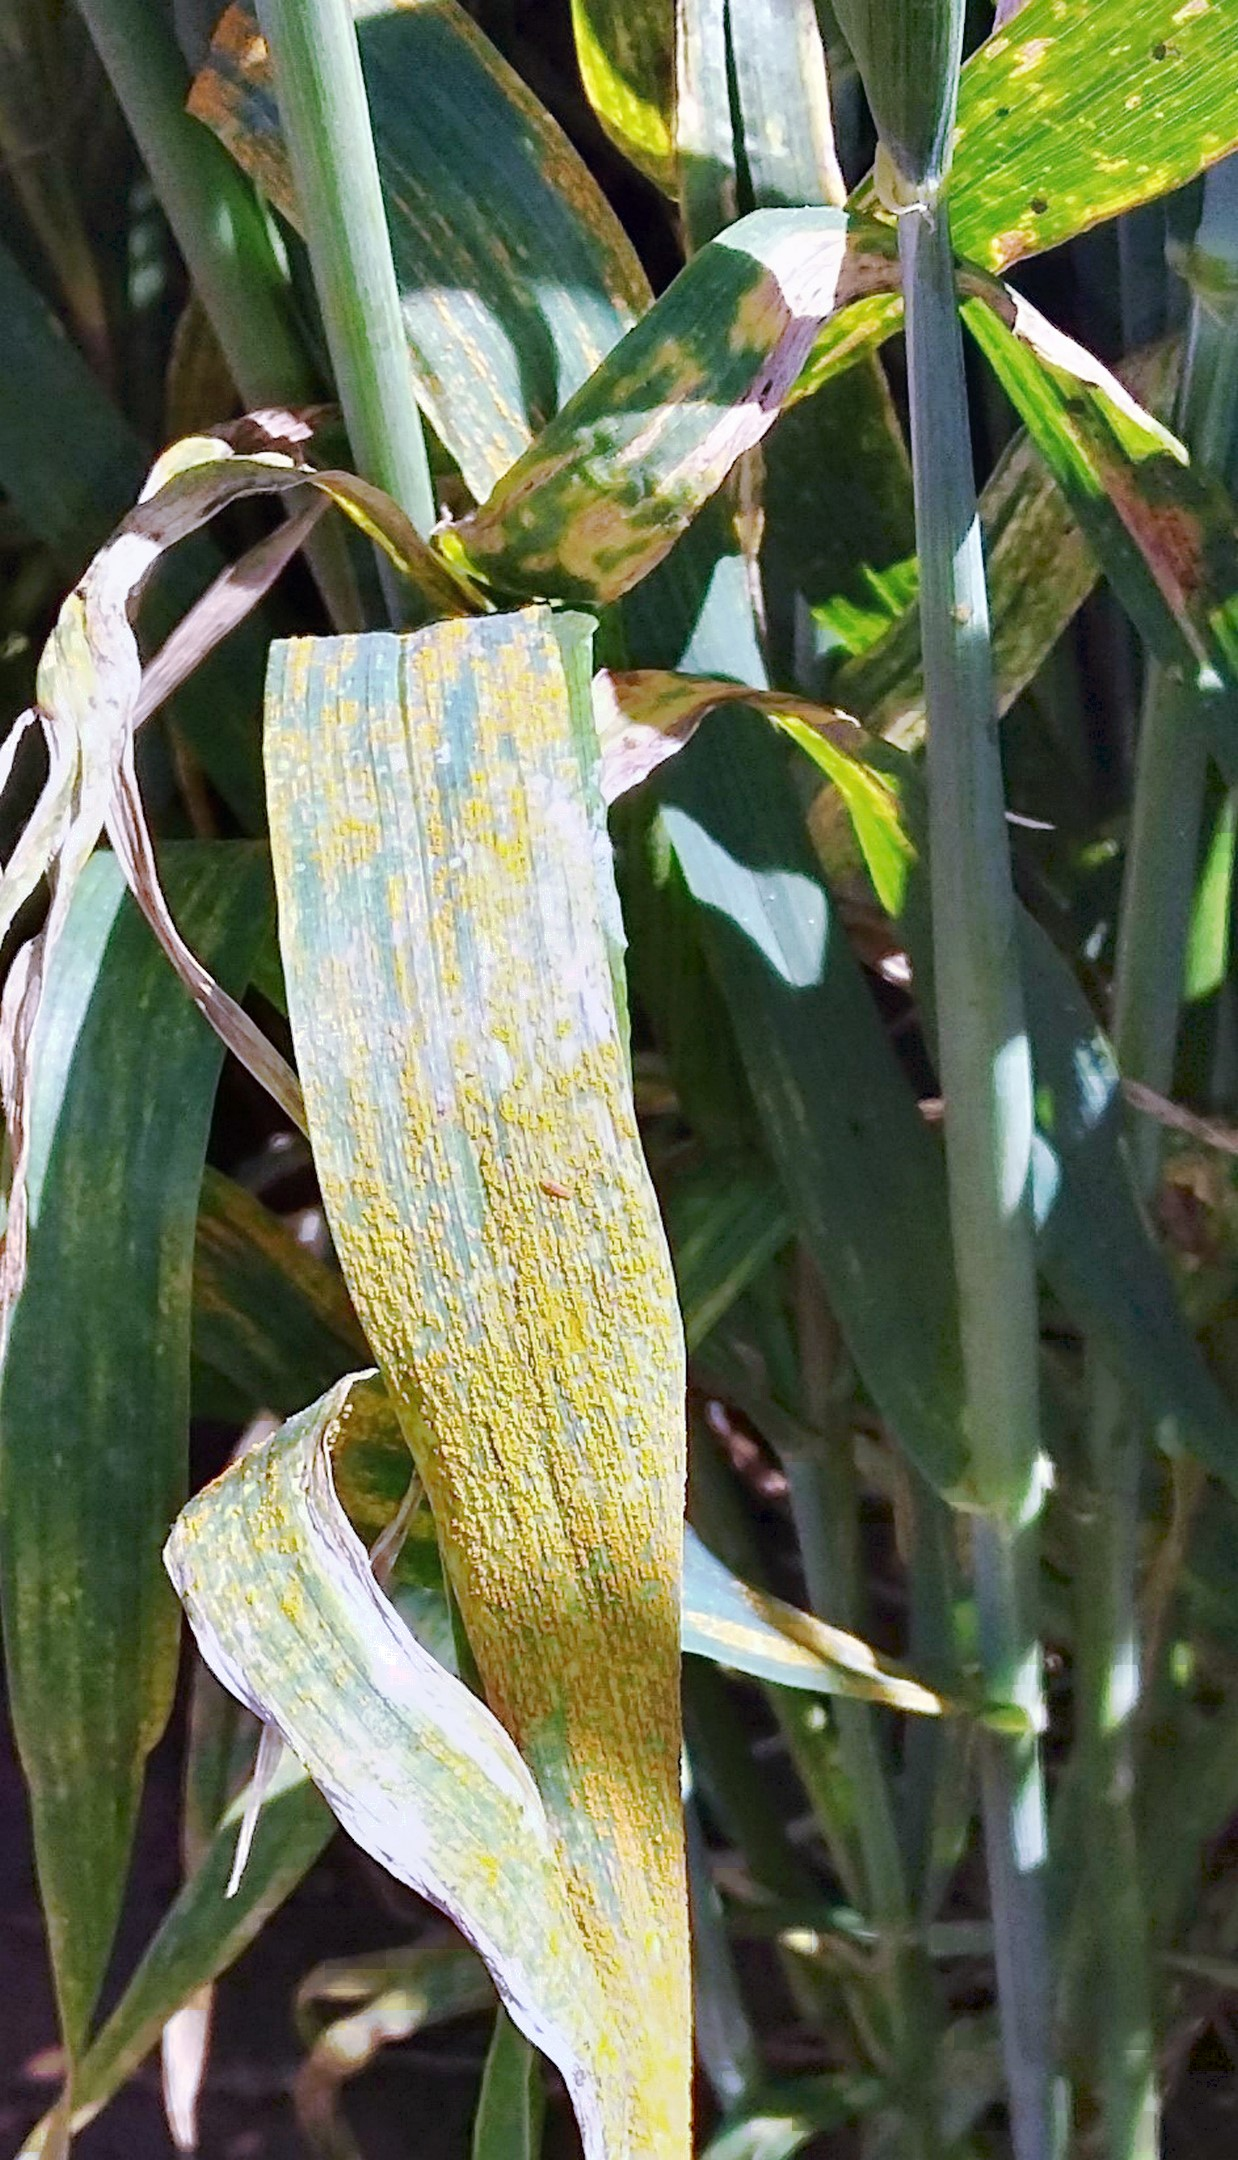Leaf Rust: (283, 856, 725, 1932)
